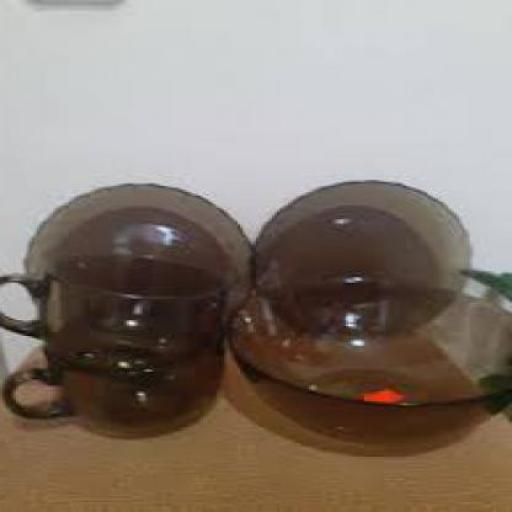glass: (231, 291, 511, 459), (26, 182, 253, 344), (256, 178, 475, 340), (2, 249, 242, 354), (6, 334, 227, 440)
